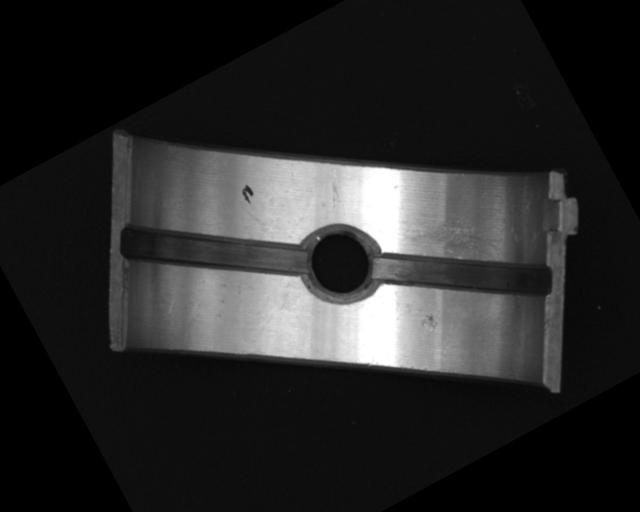blot: (237, 182, 258, 206)
bruise: (416, 310, 442, 336)
gap: (113, 159, 310, 343), (369, 189, 560, 362)
hole: (291, 212, 392, 316)
nick: (312, 162, 354, 211)
scratch: (398, 189, 508, 291)
